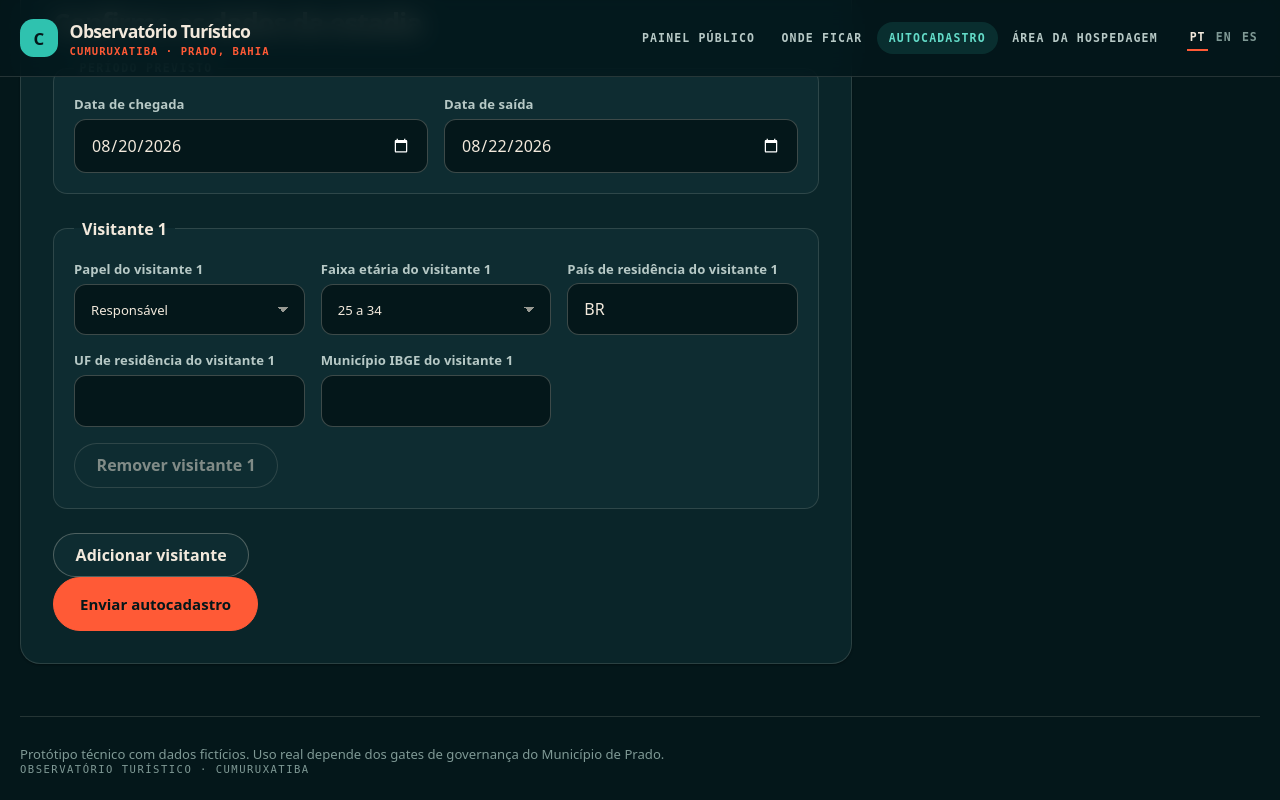
jornada do autocadastro dentro do App › mostra a confirmação depois do 200 e não regride para a tela sem cartaz
The image size is (1280, 800).
(page scrolled)
Type "BA" into the field labelled "UF de residência do visitante 1" at (189, 401), box x1=74 y1=375 x2=305 y2=427
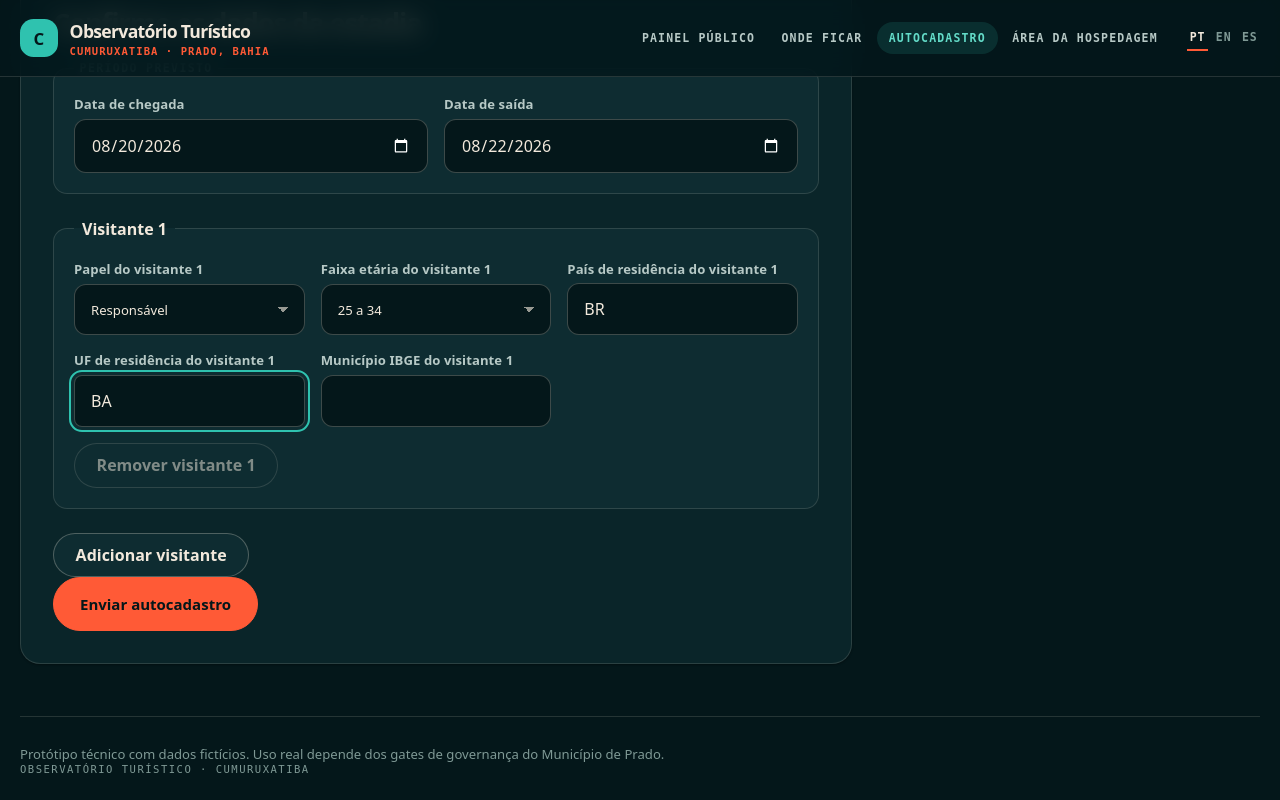
Type "2925509" into the field labelled "Município IBGE do visitante 1" at (436, 401), box x1=321 y1=375 x2=551 y2=427
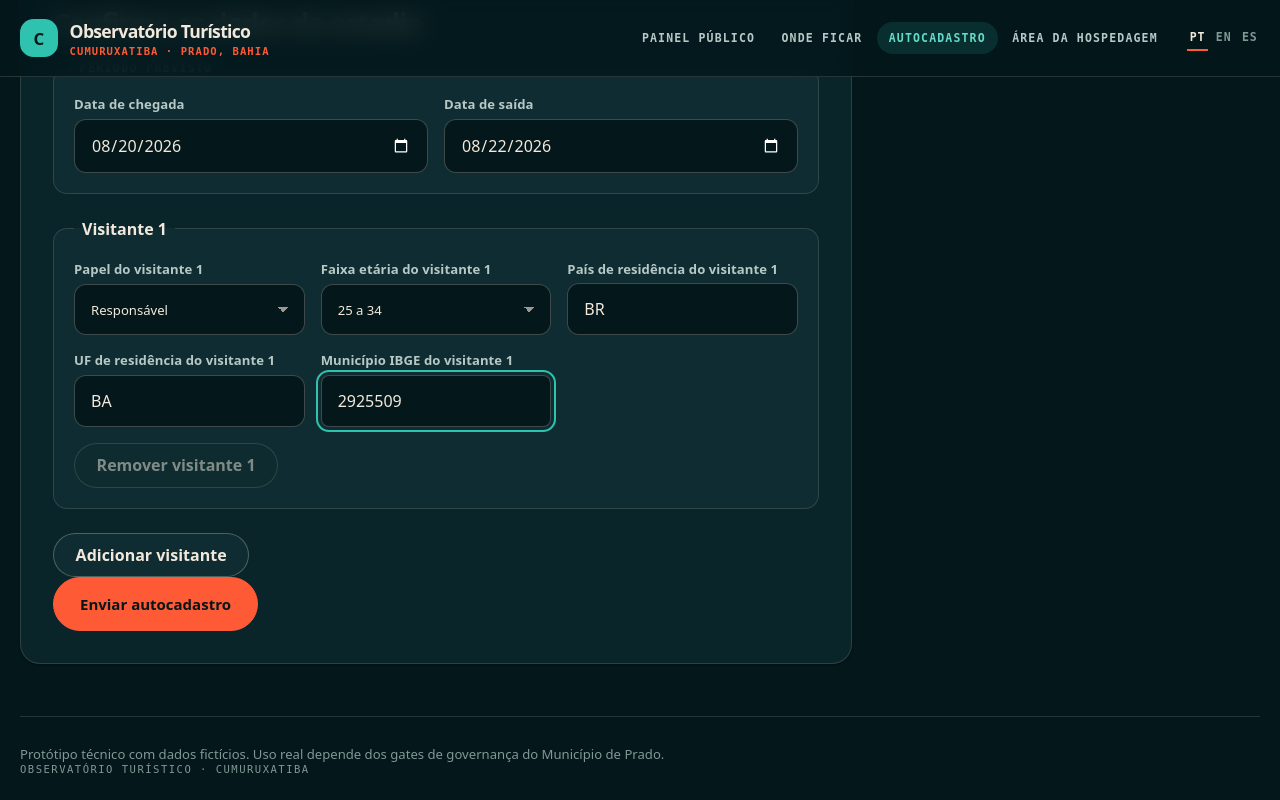
Click the button "Enviar autocadastro" at (155, 604), box x1=53 y1=577 x2=258 y2=631
(page scrolled)
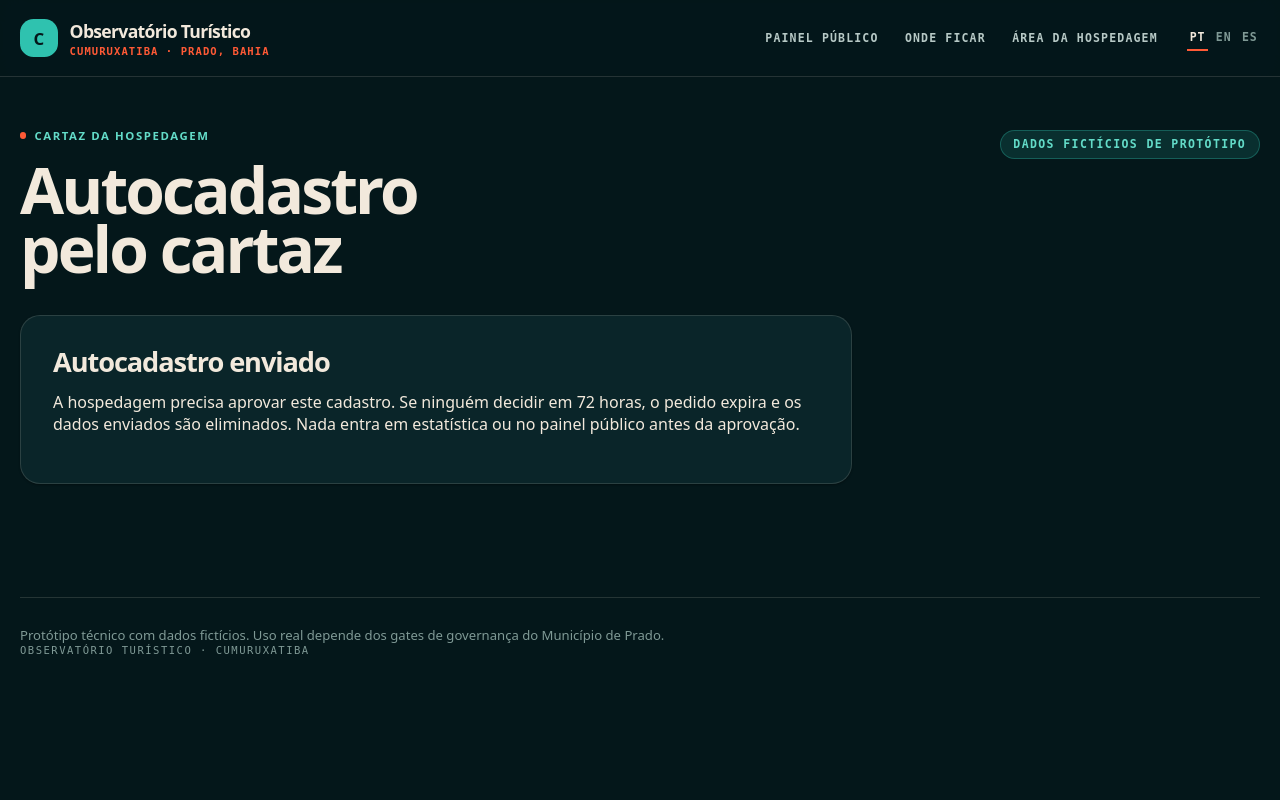
Expected: the heading "Autocadastro enviado" is shown, x1=53 y1=342 x2=330 y2=380
